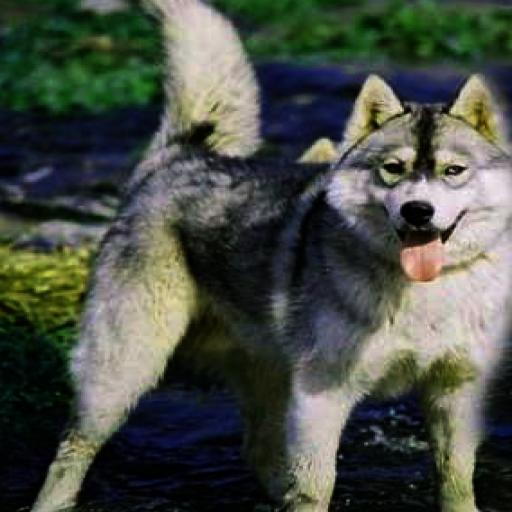dog_face: (335, 74, 512, 280)
